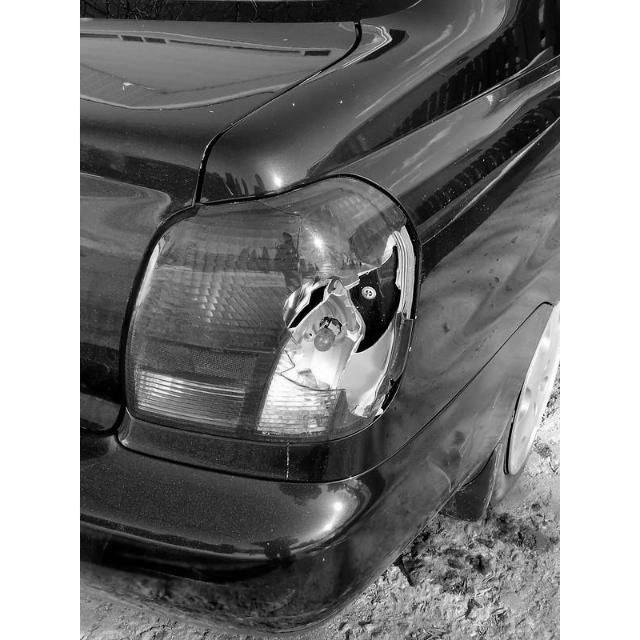Taillight-Damage: (143, 167, 439, 491)
